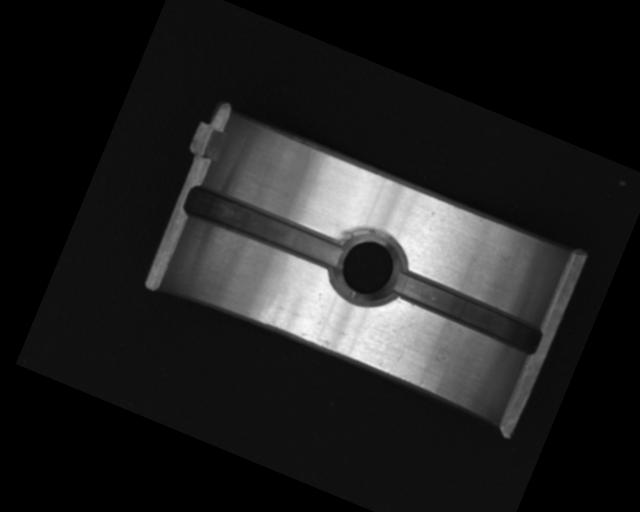gap: (180, 179, 347, 277), (388, 268, 546, 356)
hole: (318, 215, 418, 320)
